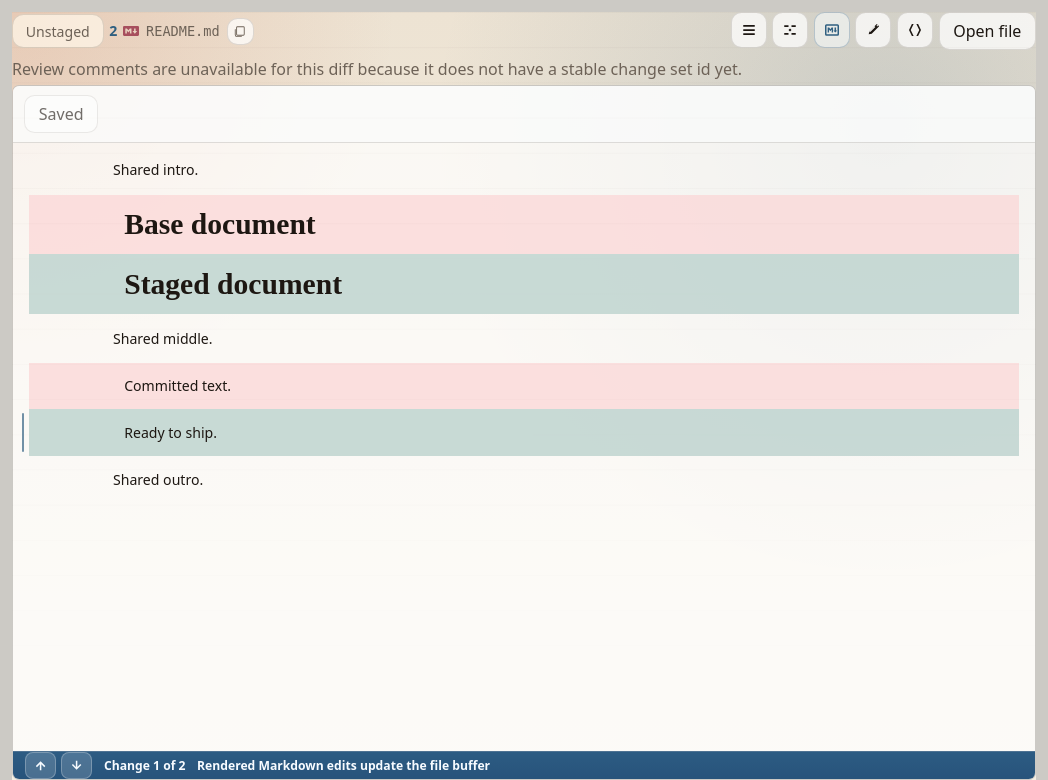
Scenario: DiffPanel › surfaces the save-error diagnostic when an informational externalFileNotice is visible
Expected: the element with class "markdown-diff-rendered-section-added" showing "Staged document" is shown, [29,254,1019,314]
Clear the field labelled "Ready to ship." at (524, 433), box [29,410,1019,456]
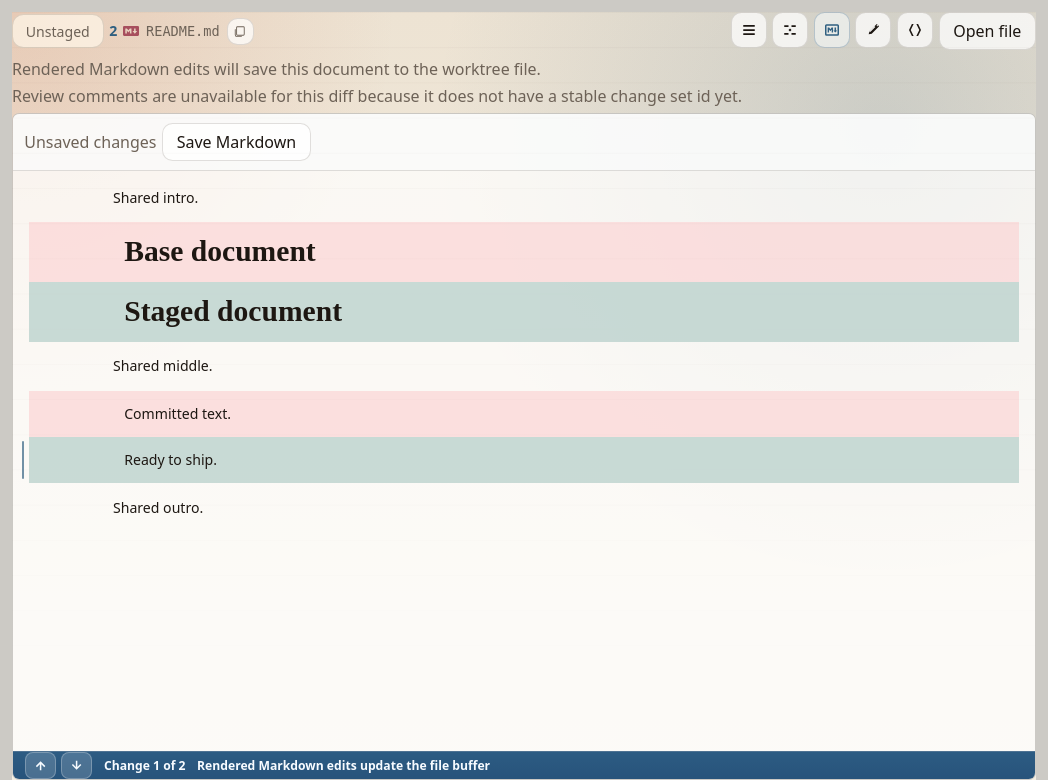
Expected: the text "Rendered Markdown edits will save this document to the worktree file." is shown, [12,58,541,80]
Click the button "Save Markdown".
click(236, 142)  # box [162,122,311,161]
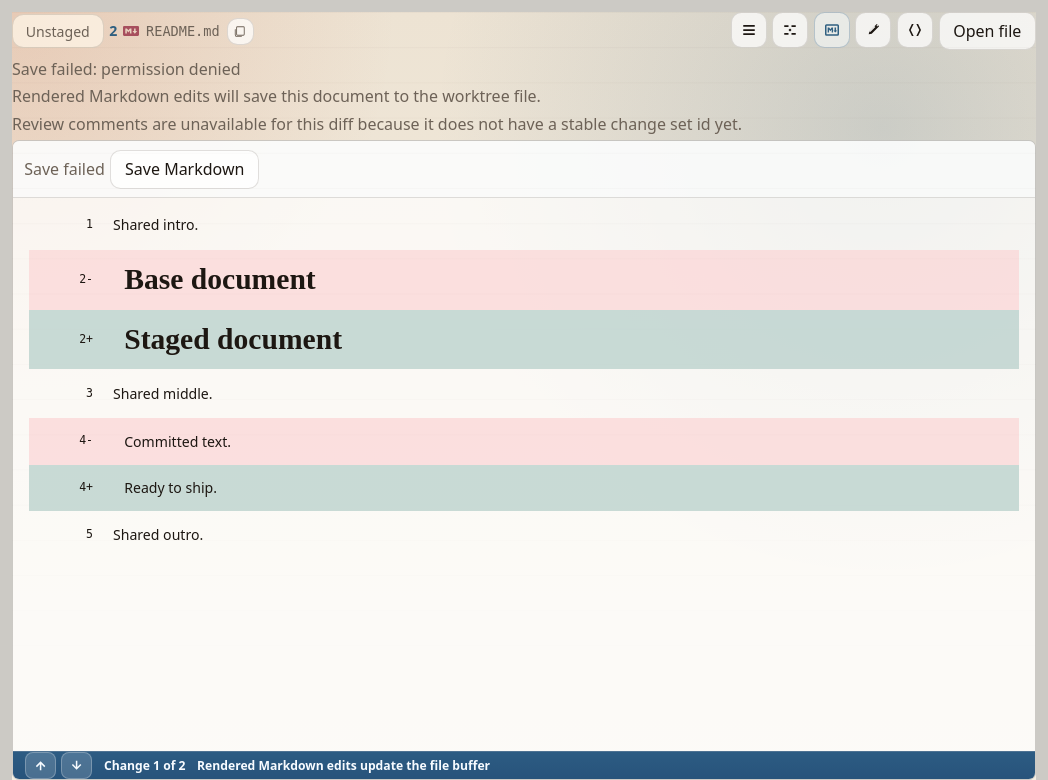
Expected: the text "Rendered Markdown edits will save this document to the worktree file." is shown, [12,85,541,107]
Expected: the text "Save failed" is shown, [24,158,105,180]
Expected: the text "Save failed: permission denied" is shown, [12,58,241,80]
